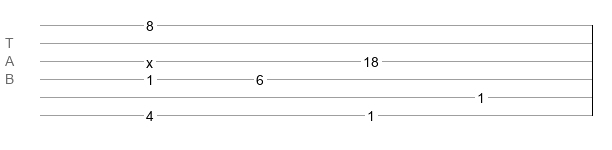1: (146, 72, 154, 82), (367, 108, 375, 118), (477, 90, 485, 100)
18: (363, 54, 379, 64)
4: (146, 108, 154, 118)
6: (256, 72, 264, 82)
8: (146, 18, 154, 28)
x: (146, 55, 153, 63)
